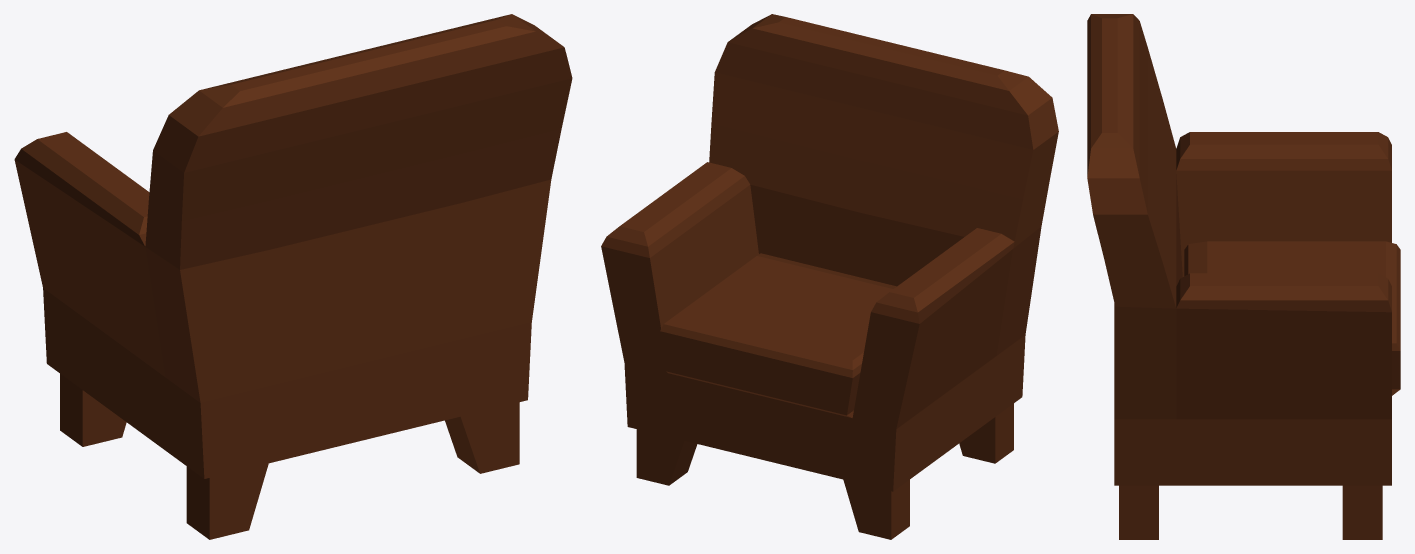
File: sillon.fbx
3 views of the same model, side by side, from view 1: azimuth 30°, elevation 25°; view 2: azimuth 150°, elevation 25°; view 3: azimuth 270°, elevation 25° (orthographic). The views are drawn at different scales.
Parts seen in each view (by area): view 1: sillon_obj; view 2: sillon_obj; view 3: sillon_obj.
Boxes of the visible parts, box(x1,y1,x2,y2) form: sillon_obj: box(14, 14, 572, 539); sillon_obj: box(601, 14, 1058, 539); sillon_obj: box(1087, 14, 1400, 539).
Size of the model in its own units: 72 by 79.85 by 57.08.
